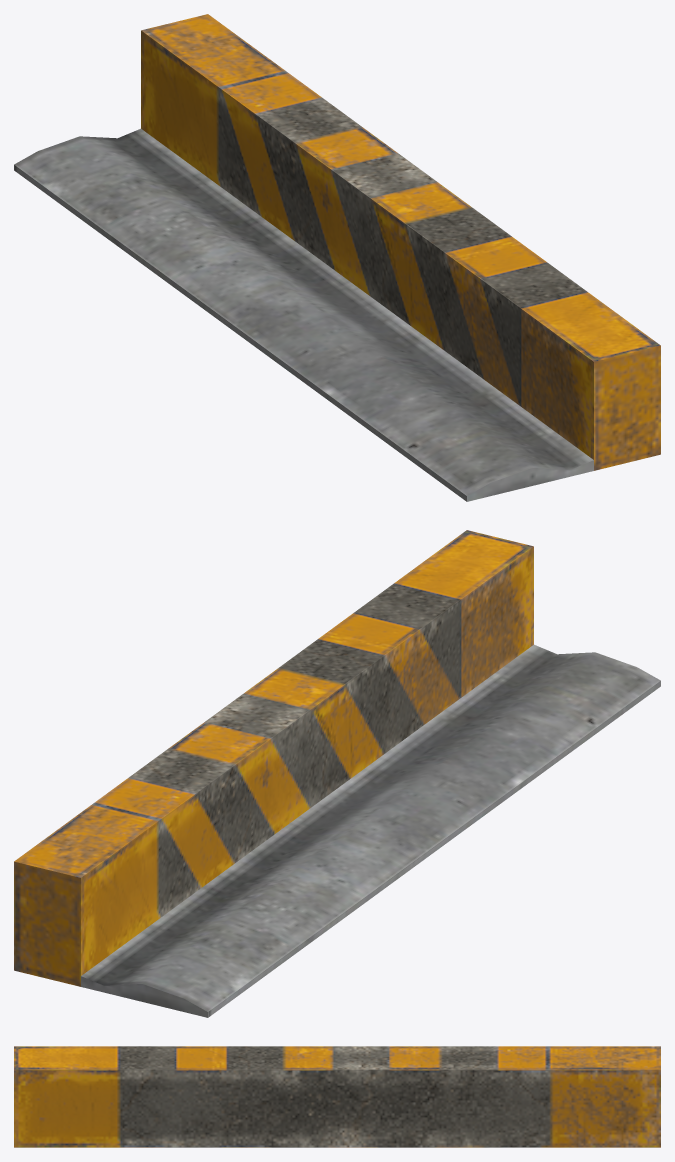
File: HH_Curbstone_Yellow.fbx
3 views of the same model, one above another, from view 1: azimuth 30°, elevation 25°; view 2: azimuth 150°, elevation 25°; view 3: azimuth 270°, elevation 25° (orthographic). The views are drawn at different scales.
Parts seen in each view (by area): view 1: HH_Curbstone_Yellow; view 2: HH_Curbstone_Yellow; view 3: HH_Curbstone_Yellow.
Boxes of the visible parts, x1,y1,x2,y2 form: HH_Curbstone_Yellow: (14, 14, 660, 501); HH_Curbstone_Yellow: (14, 530, 660, 1017); HH_Curbstone_Yellow: (14, 1046, 660, 1147).
Bounding box in the file's own units: 24.73 × 13.28 × 100.
